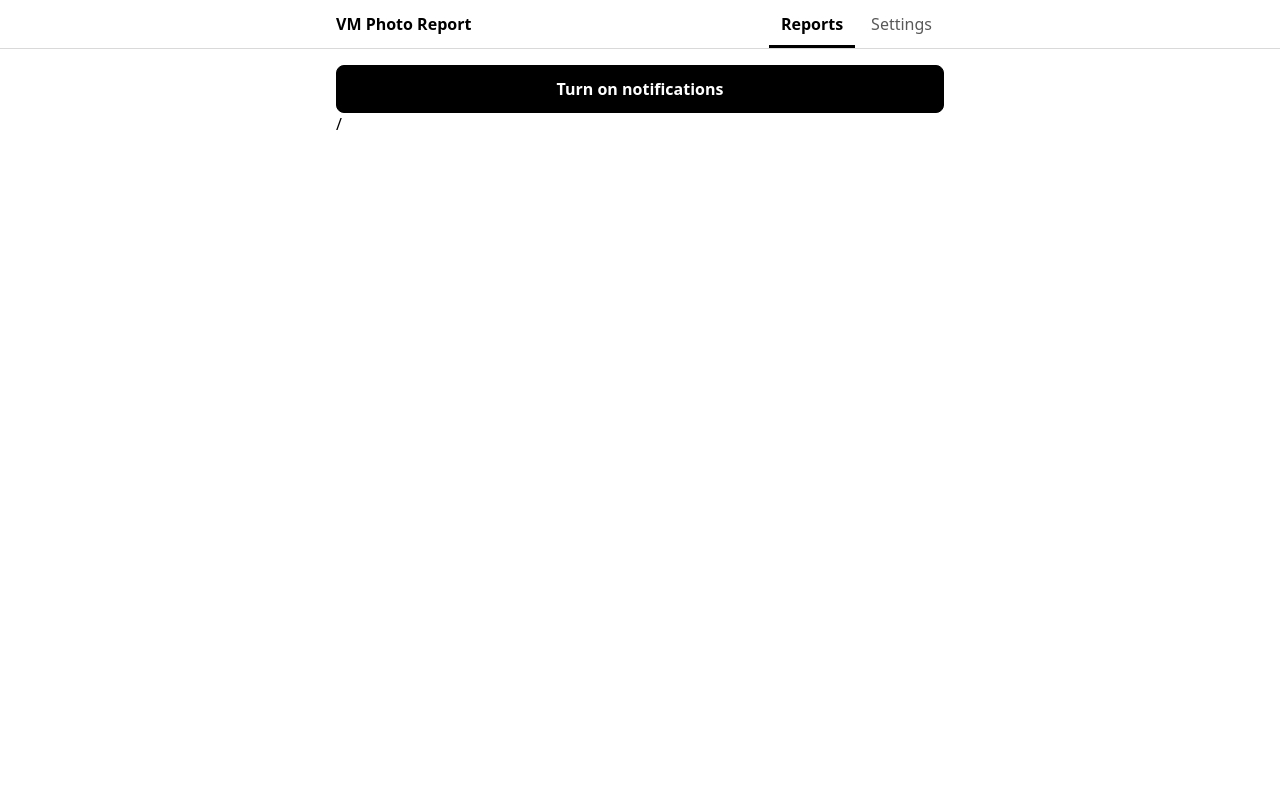
Layout banner › permission not asked yet: Turn on notifications; granted confirms and hides the button
Click the button "Turn on notifications": coordinates (640, 89) [336, 65, 944, 113]
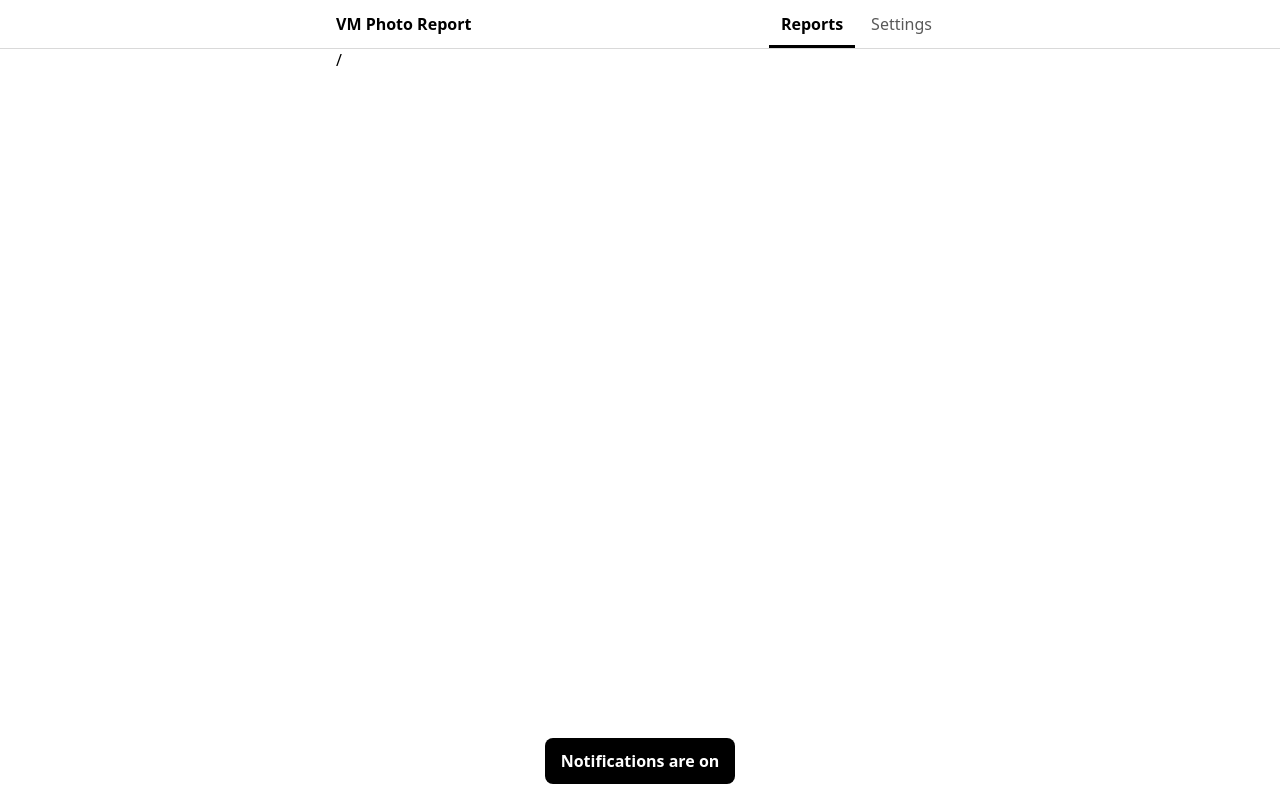
Check: the text "Notifications are on" is shown, box [561, 750, 719, 772]
Check: the button "Turn on notifications" is gone
